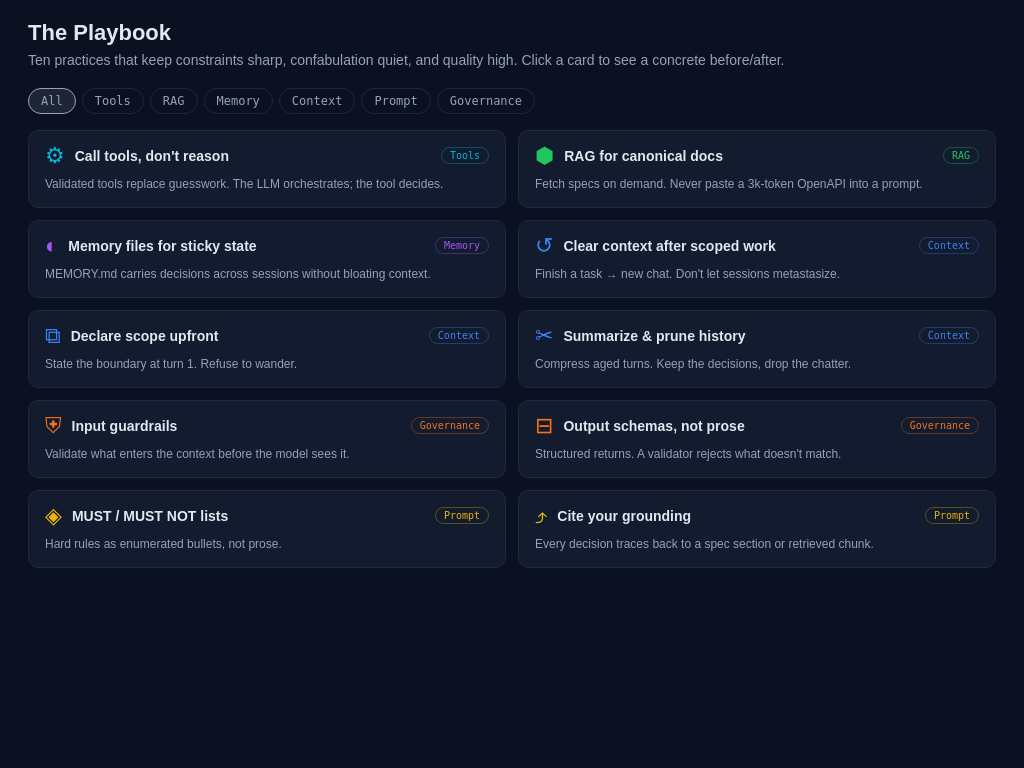
BestPracticesPlaybook › clicking a filter narrows the visible cards
Click the button with test id "filter-btn-RAG" at (174,101), box [150, 88, 198, 114]
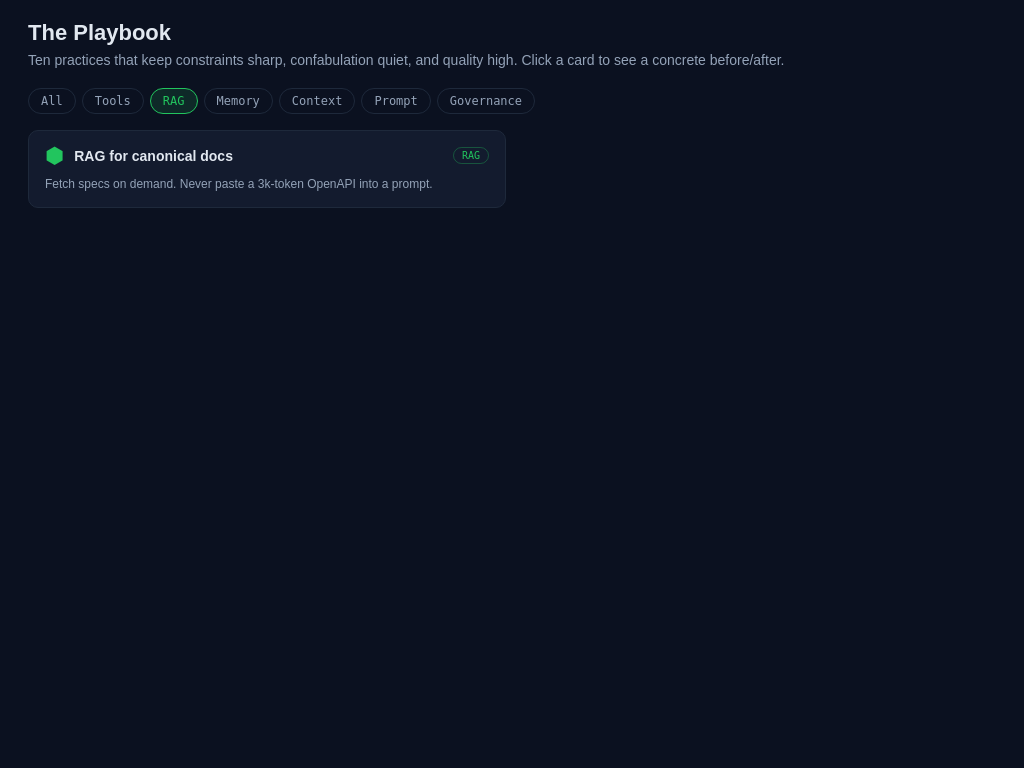
Check: the element with test id "card-rag-for-canonicals" is shown, box [28, 130, 506, 208]
Check: the element with test id "card-tools-over-reasoning" is gone
